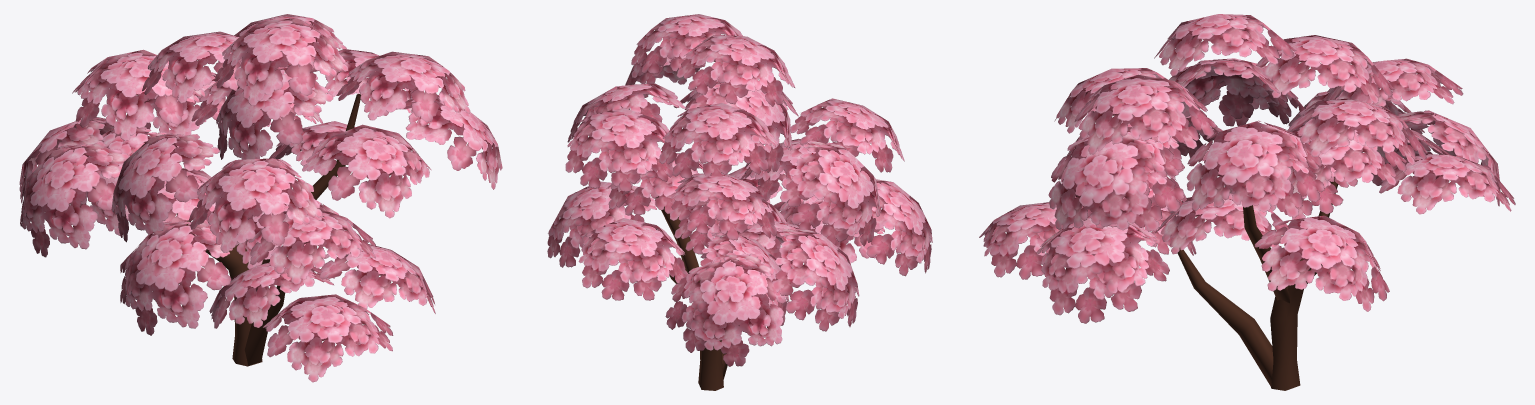
The model's file is Town_Tree_A.FBX.
3 views of the same model, side by side, from view 1: azimuth 30°, elevation 25°; view 2: azimuth 150°, elevation 25°; view 3: azimuth 270°, elevation 25° (orthographic). The views are drawn at different scales.
Parts seen in each view (by area): view 1: Town_Tree_A; view 2: Town_Tree_A; view 3: Town_Tree_A.
Part boxes in pixels (x1,y1,x2,y2): Town_Tree_A: (19,14,502,382); Town_Tree_A: (547,14,932,390); Town_Tree_A: (979,14,1515,390).
Bounding box in the file's own units: 717 × 673 × 922.
